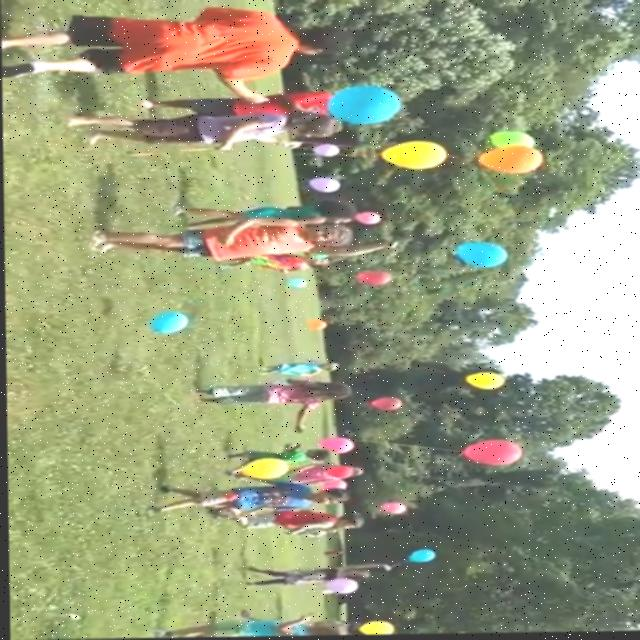balloon: (328, 88, 399, 125), (477, 149, 543, 175), (461, 442, 522, 469), (380, 144, 445, 169), (451, 243, 503, 269), (233, 458, 283, 481), (145, 314, 189, 336), (488, 131, 534, 149), (465, 374, 505, 392), (353, 620, 396, 636), (353, 211, 385, 226), (318, 438, 350, 453), (407, 549, 436, 565), (323, 579, 354, 593), (356, 274, 389, 287), (309, 178, 339, 192), (372, 399, 398, 413), (312, 145, 339, 157), (377, 504, 403, 516), (322, 468, 350, 478), (288, 279, 305, 288), (308, 323, 324, 331)
